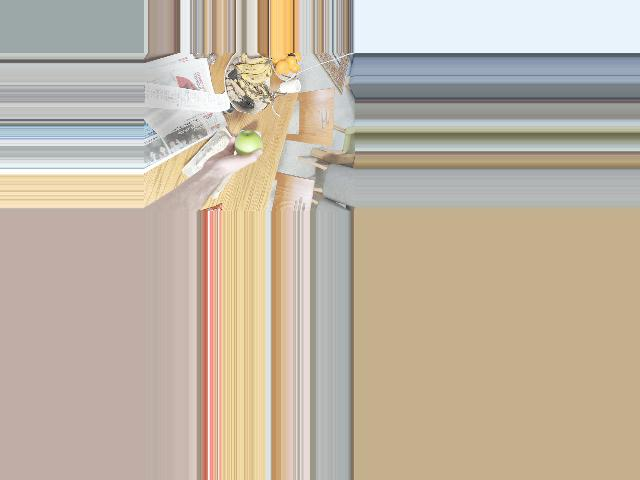apple: (231, 130, 265, 161)
